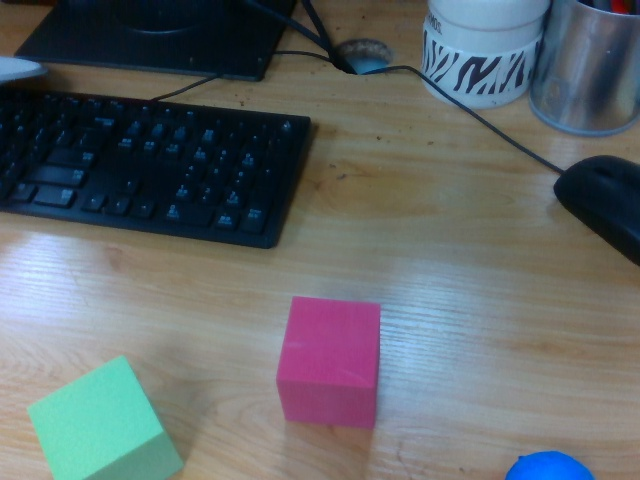blueball: (504, 449, 595, 480)
green: (23, 356, 184, 480)
red: (276, 291, 383, 429)
